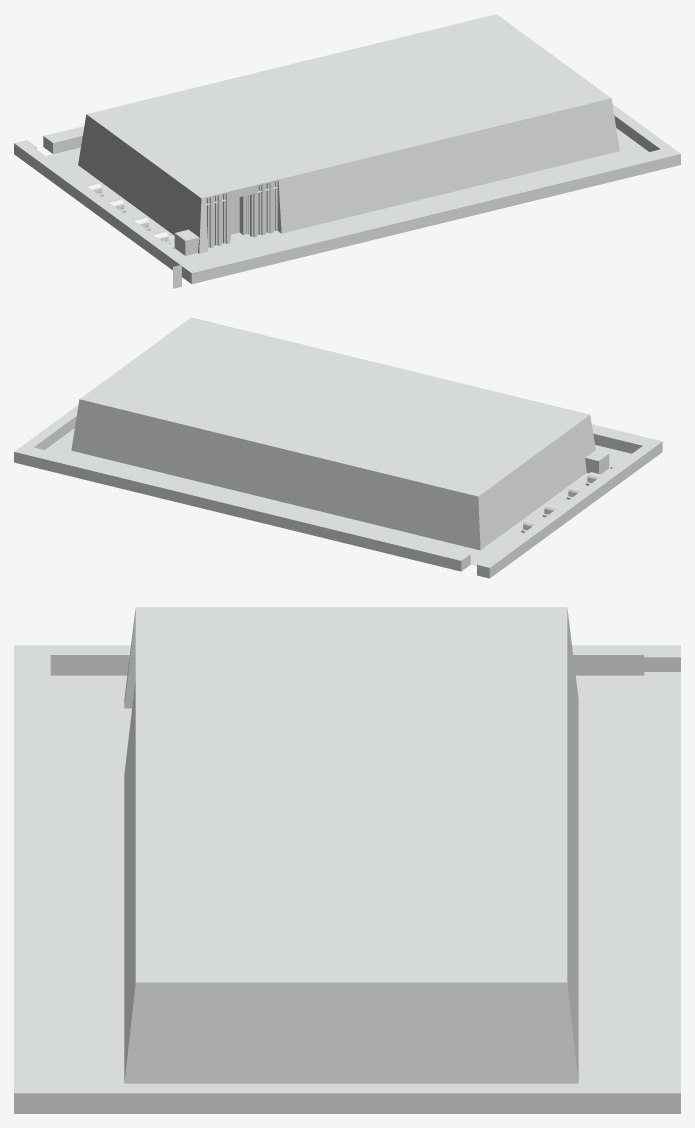
The picture shows the model from 3 angles, top to bottom: view 1: azimuth 30°, elevation 25°; view 2: azimuth 150°, elevation 25°; view 3: azimuth 270°, elevation 25°; orthographic projection. The views are drawn at different scales.
Parts seen in each view (by area): view 1: Mesh1 Model; view 2: Mesh1 Model; view 3: Mesh1 Model.
Part boxes in pixels (bbox=[...]): Mesh1 Model: bbox=[14, 14, 680, 283]; Mesh1 Model: bbox=[14, 317, 662, 578]; Mesh1 Model: bbox=[14, 607, 680, 1113].
Bounding box in the file's own units: 38.53 × 3.76 × 23.35.
2 materials, 2 textured.
